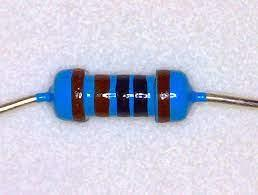resistor: (35, 68, 206, 124)
